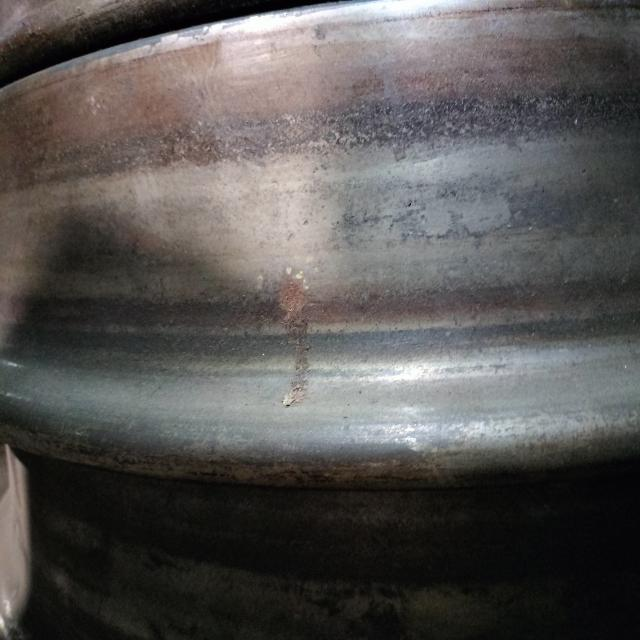Contact_Fatigue_Cracks: (310, 109, 618, 143)
flat: (362, 174, 565, 246)
